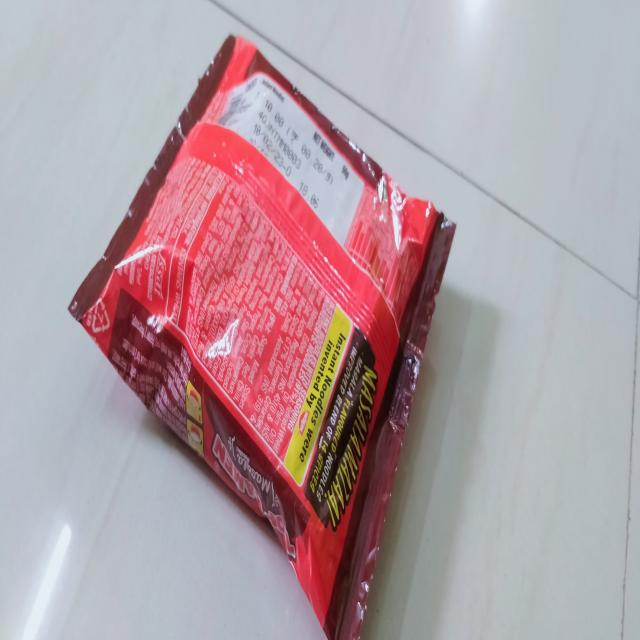maggi: (66, 25, 450, 640)
